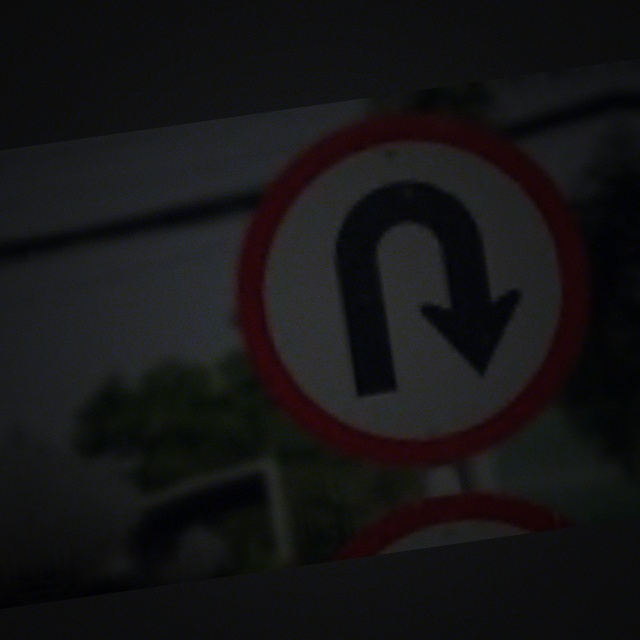U_Turn_Ahead: (220, 103, 607, 468)
